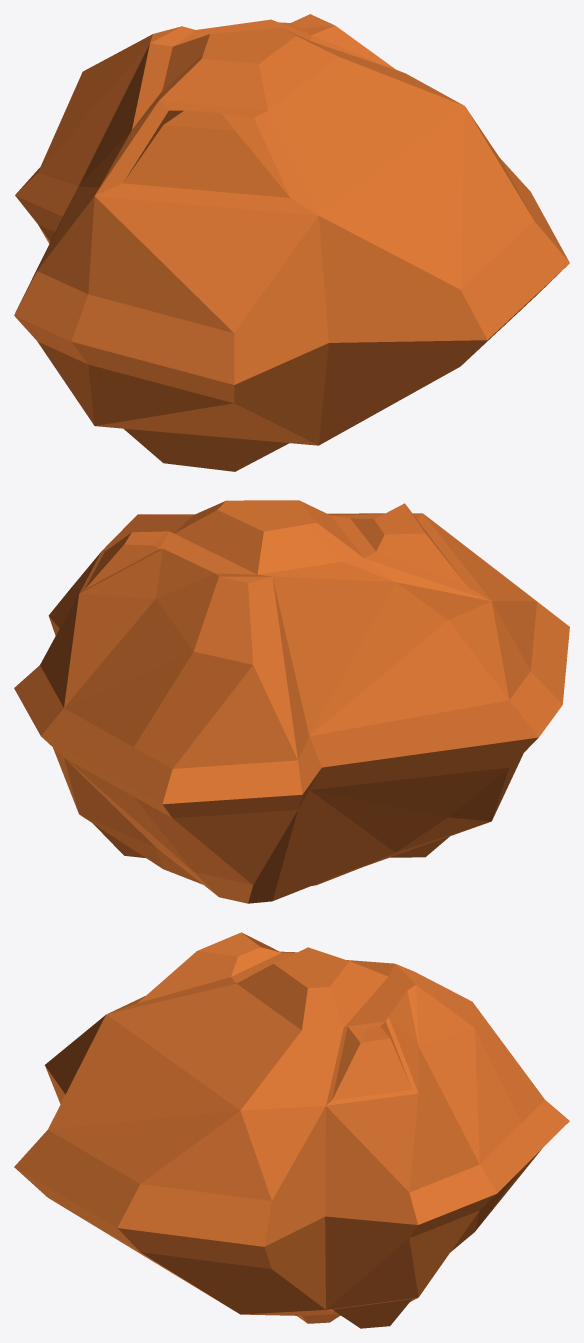
The model's file is WalnutItem.fbx.
3 views of the same model, one above another, from view 1: azimuth 30°, elevation 25°; view 2: azimuth 150°, elevation 25°; view 3: azimuth 270°, elevation 25° (orthographic). The views are drawn at different scales.
Visible parts, largest first — view 1: Walnut; view 2: Walnut; view 3: Walnut.
Boxes of the visible parts, <box> form: Walnut: <box>14,14,569,471</box>; Walnut: <box>14,500,569,903</box>; Walnut: <box>14,932,569,1328</box>.
Bounding box in the file's own units: 44.19 × 31.07 × 46.65.
